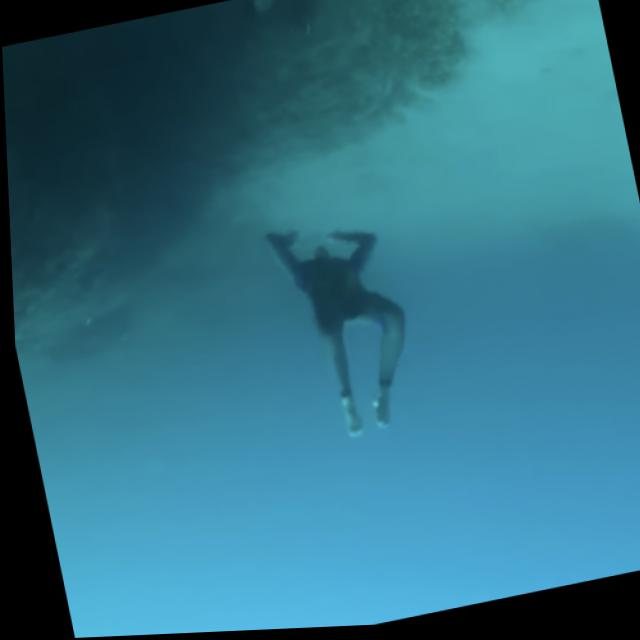human: (257, 208, 430, 457), (207, 0, 340, 73)
